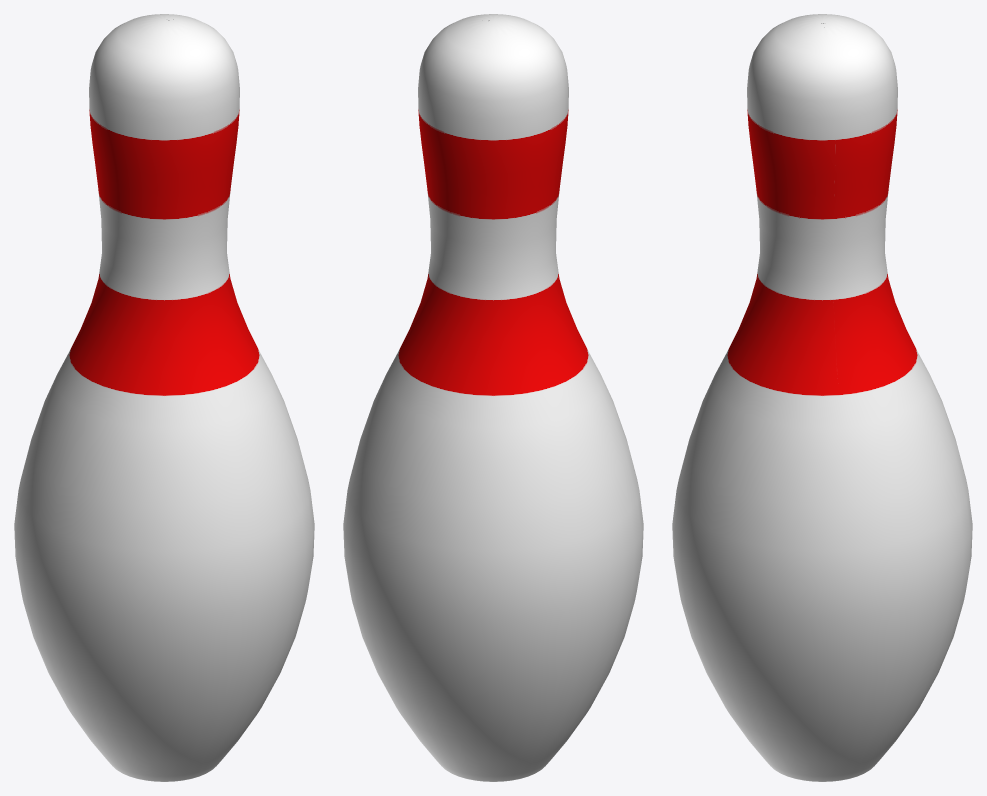
File: bolo.FBX
The picture shows the model from 3 angles, left to right: view 1: azimuth 30°, elevation 25°; view 2: azimuth 150°, elevation 25°; view 3: azimuth 270°, elevation 25°; orthographic projection.
Parts seen in each view (by area): view 1: Cylinder001; view 2: Cylinder001; view 3: Cylinder001.
Part boxes in pixels (x1=…): Cylinder001: x1=14, y1=14, x2=314, y2=781; Cylinder001: x1=343, y1=14, x2=643, y2=781; Cylinder001: x1=672, y1=14, x2=972, y2=781.
Size of the model in its own units: 340 by 921 by 340.
